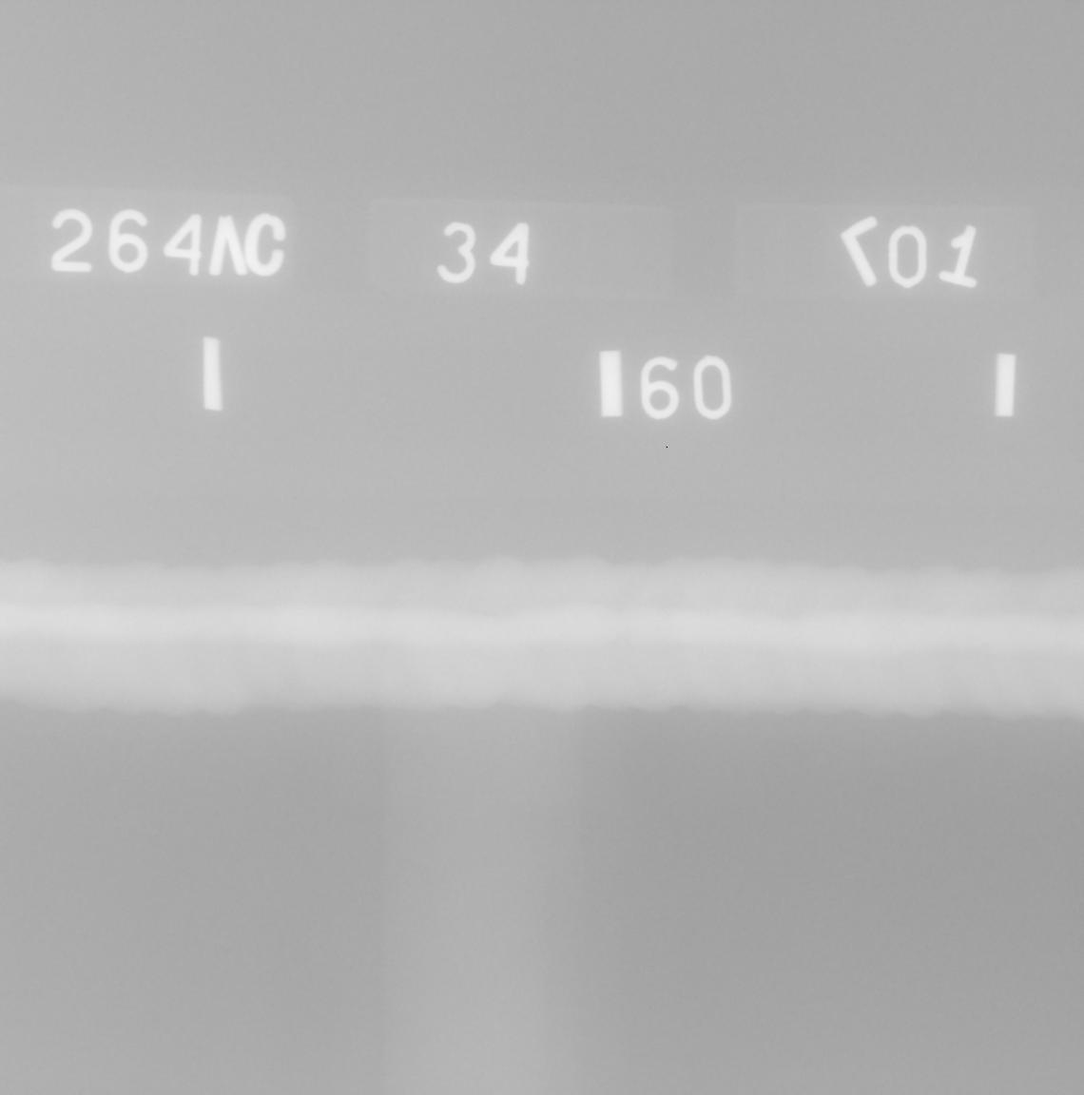Pore/Porosity: (984, 644, 990, 649)
